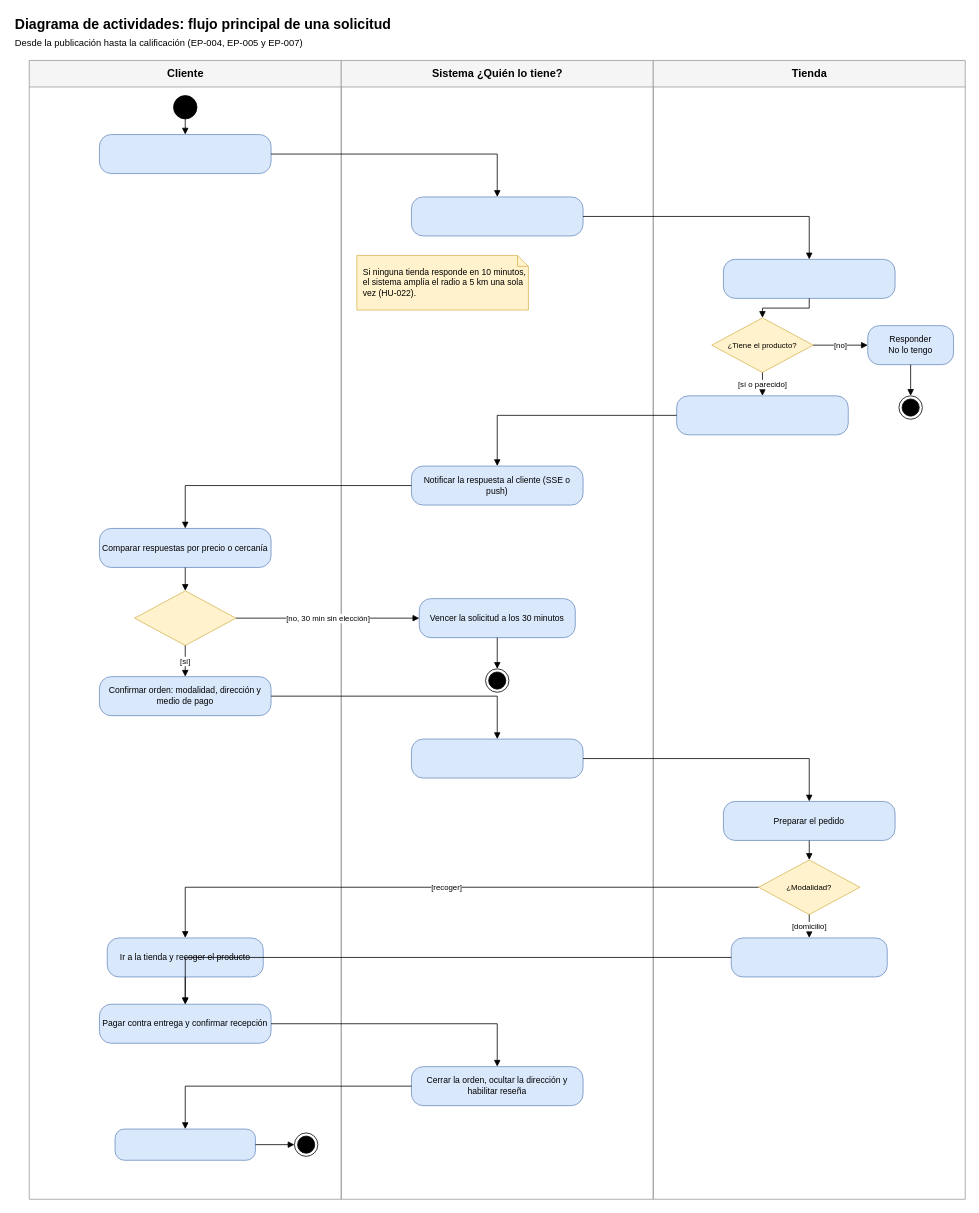
Image size: 979x1213. Some labels were removed from this diagram. Each missing label, with the centre of its shape:
Calificar a la tienda: [184,1144]
Crear orden, calcular total y avisar a la tienda elegida: [497,758]
Enviar con su domiciliario: [808,957]
Publicar solicitud (producto, cantidad, modalidad, ubicación): [185,154]
Responder Sí lo tengo o Tengo algo parecido (precio, cantidad, domicilio): [762,415]
Revisar la solicitud en el panel (sin datos del cliente): [809,278]
Validar y difundir a tiendas elegibles en 3 km: [497,216]
¿Elige una respuesta?: [185,617]
